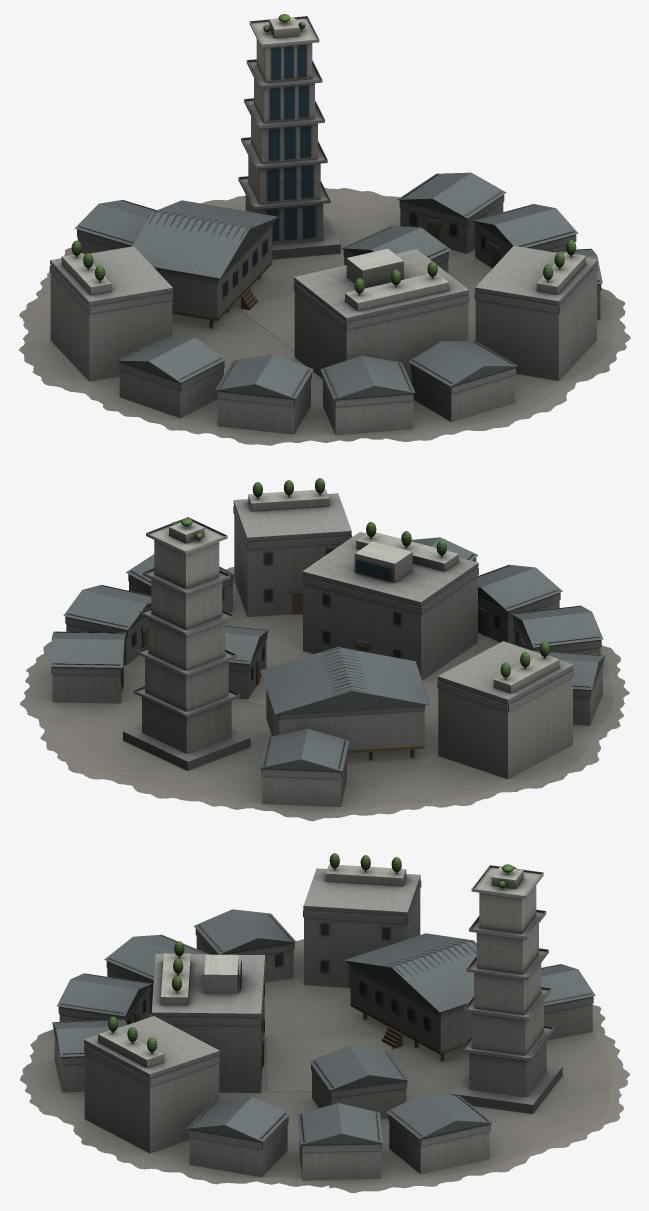
Rendered from modern-town-medium-b-monsoon-3974291f.glb.
3 renders of one model, top to bottom at view 1: azimuth 30°, elevation 25°; view 2: azimuth 150°, elevation 25°; view 3: azimuth 270°, elevation 25°, orthographic.
Parts seen in each view (by area): view 1: LOD0; view 2: LOD0; view 3: LOD0.
Boxes of the visible parts, x1,y1,x2,y2 form: LOD0: (19,14,630,445); LOD0: (20,478,629,821); LOD0: (20,853,630,1192).
Size of what is drawn, in the model's own units: 6.02 by 2.4 by 5.95.
3 materials, 3 textured.
